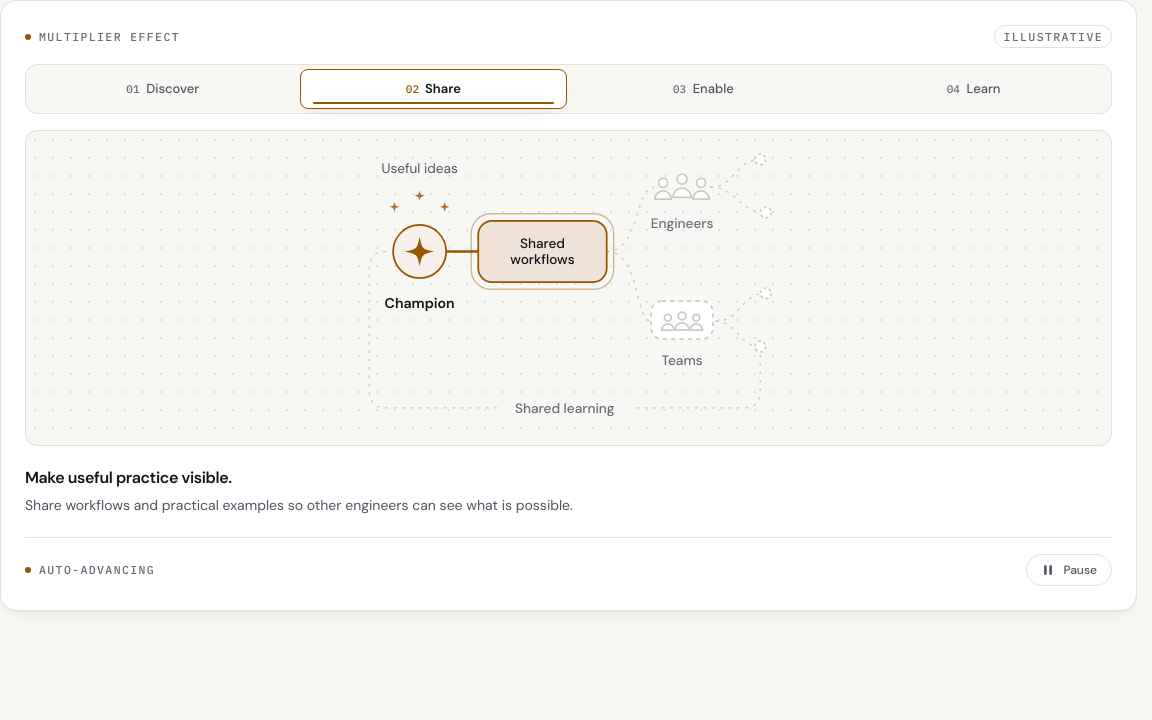
Test case: TeamMultiplier › plays one pass from Discover as it scrolls in, holding off screen and on pause
Expected: the text "Auto-advancing" is shown, [25,561,155,578]
Click the button with aria-label "Pause auto-advance" at coordinates (1069, 570), box [1026,554,1112,586]
Wait 10000 ms
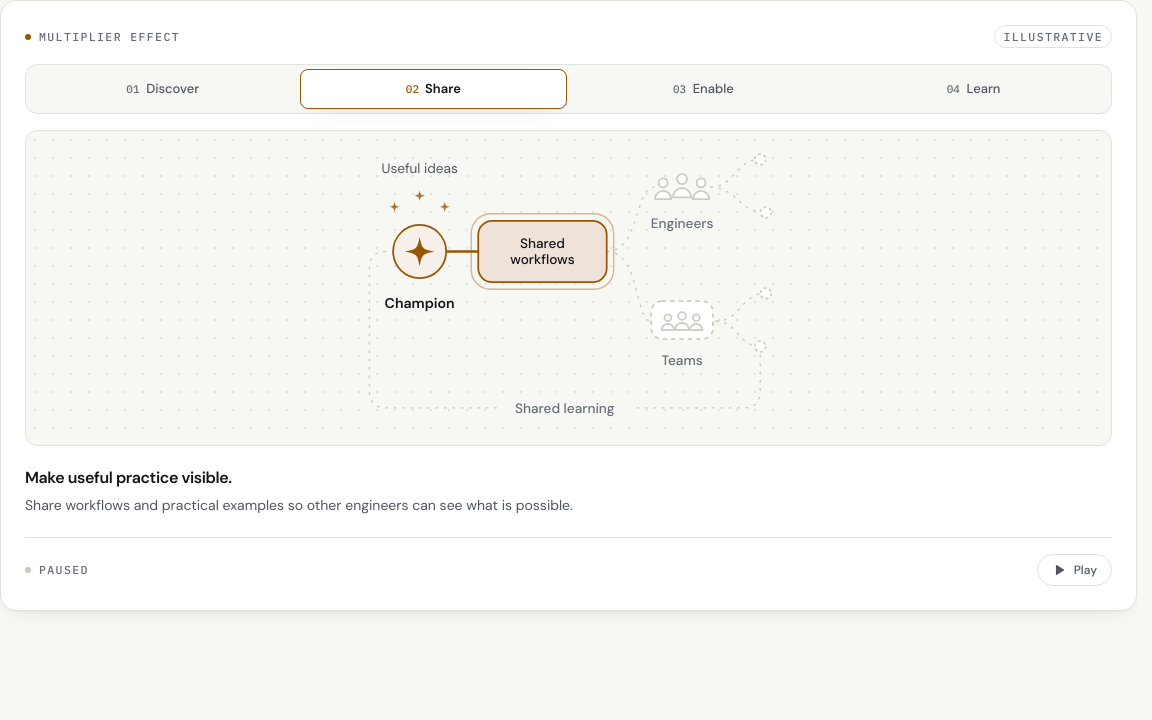
Click the button with aria-label "Play auto-advance" at coordinates (1074, 570), box [1037,554,1112,586]
Wait 20000 ms
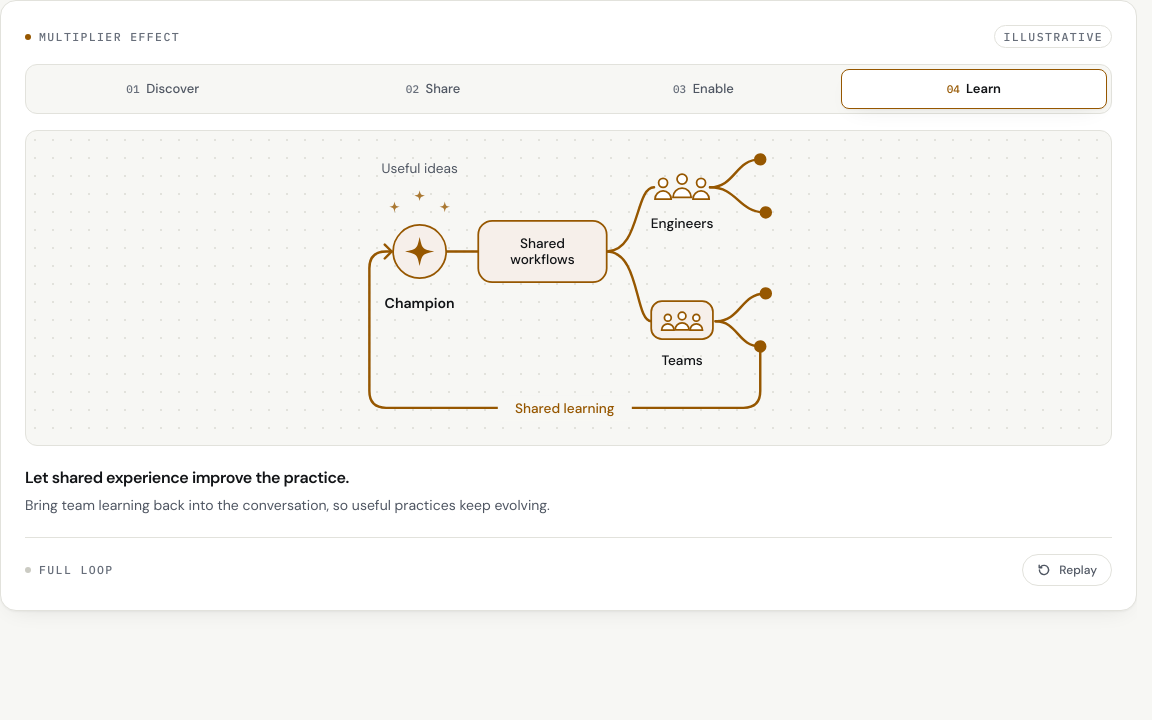
Expected: the button with aria-label "Replay auto-advance" is shown, [1022,554,1112,586]
